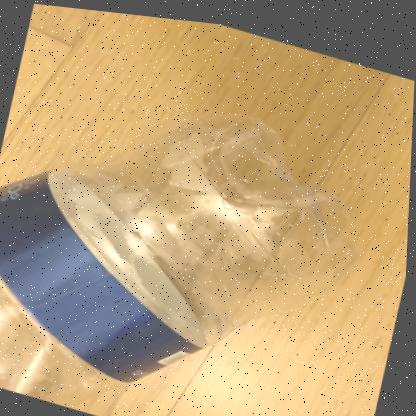Plastic: (0, 108, 359, 405)
